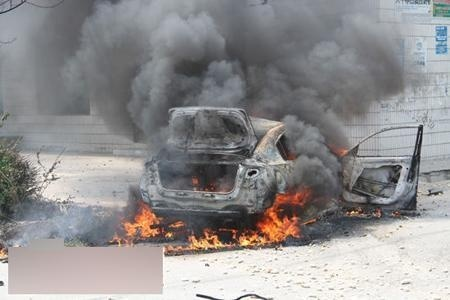fire: (112, 193, 310, 251), (342, 201, 386, 219)
